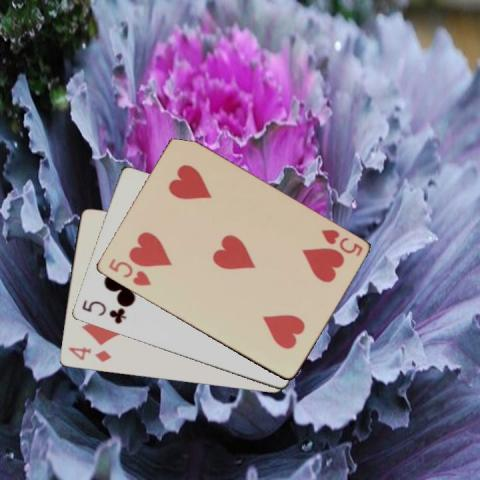4d: (65, 344, 112, 364)
5c: (79, 297, 127, 325)
5h: (105, 255, 153, 288), (318, 226, 364, 258)
